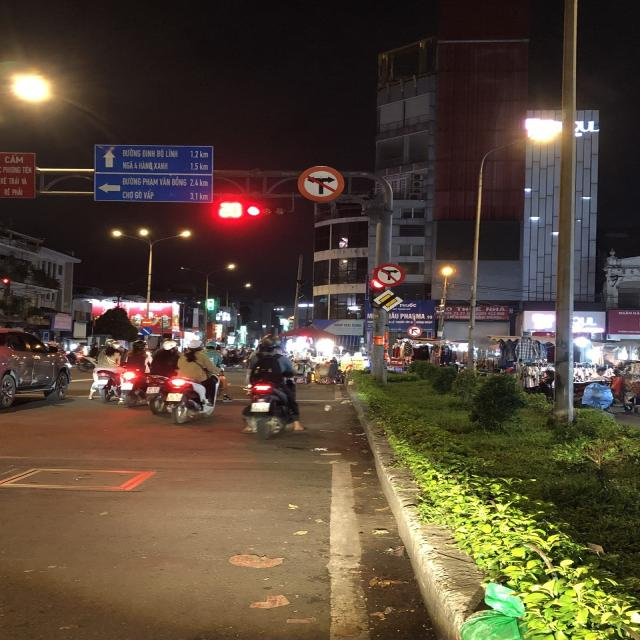Bien bao cam re phai: (406, 324, 422, 338)
